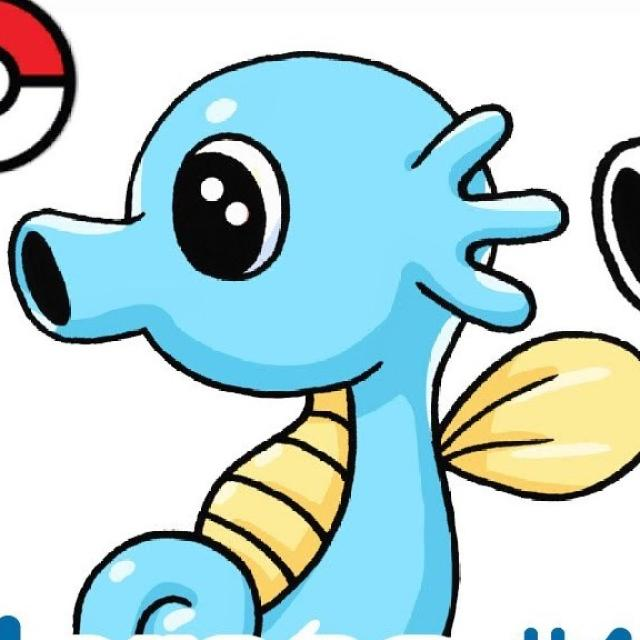Horsea: (33, 45, 562, 640)
